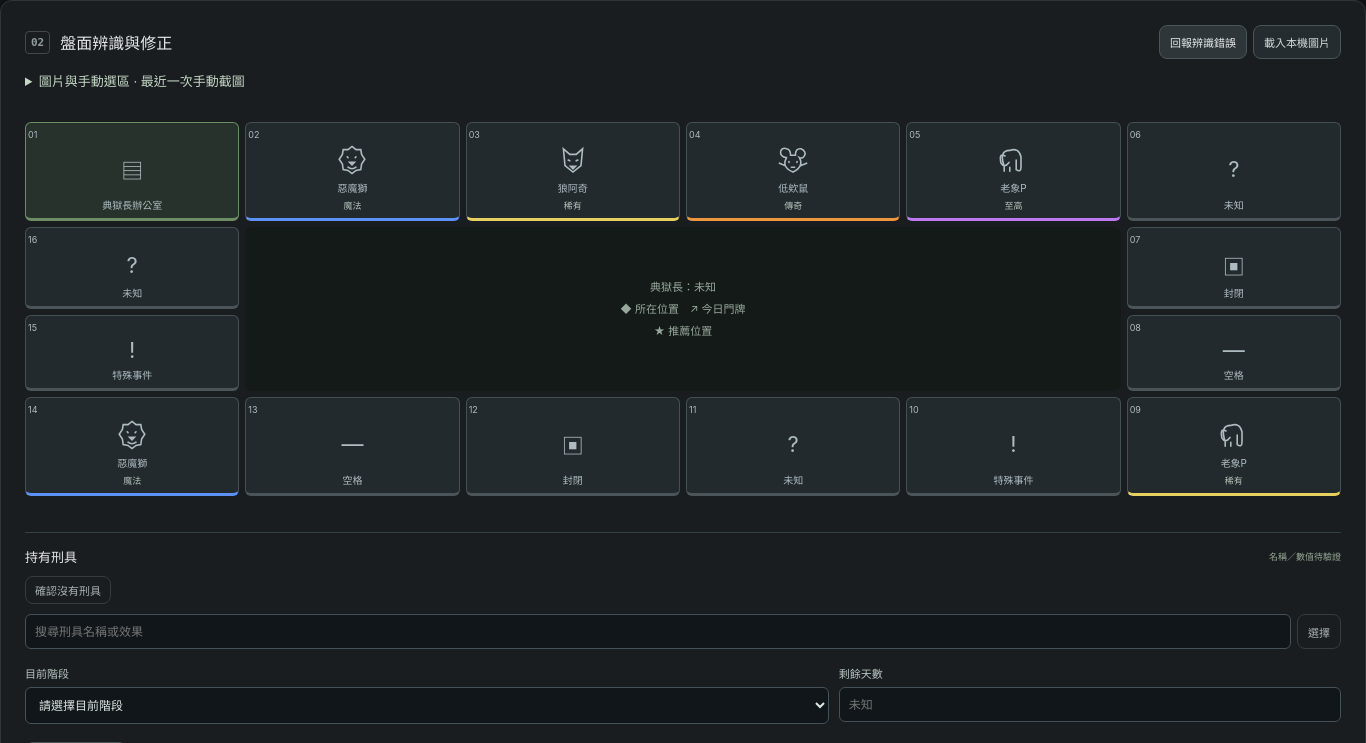
Test: manual board editor and JSON workflow › recognizes an explicit snapshot and permits correcting its board
This screenshot has width=1366, height=743.
Click the button with aria-label "格子 3 囚犯" at coordinates (573, 172), box left=466, top=122, right=680, bottom=221
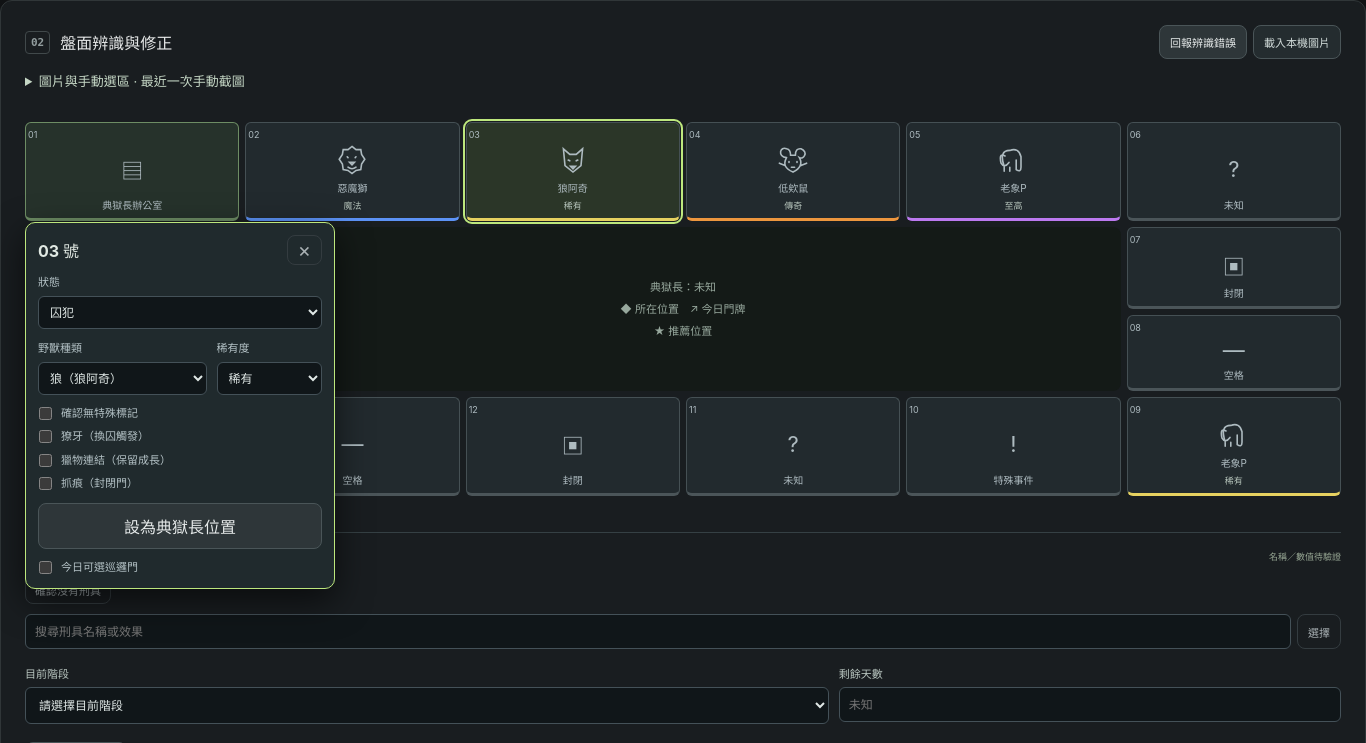
Select "老鼠（低欸鼠）" in the dropdown labelled "野獸種類" at coordinates (122, 378), box left=38, top=362, right=207, bottom=394
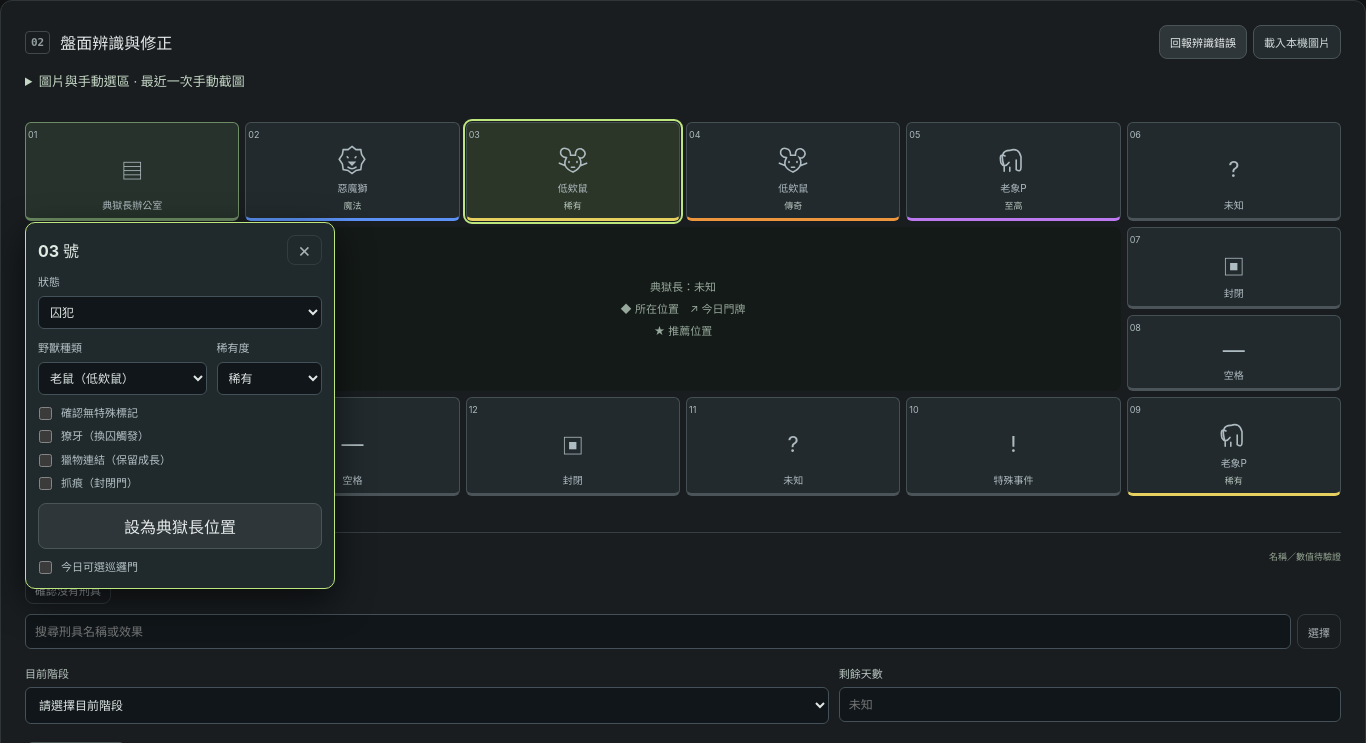
Expected: the button with aria-label "格子 3 囚犯" shows "低欸鼠", left=466, top=122, right=680, bottom=221
